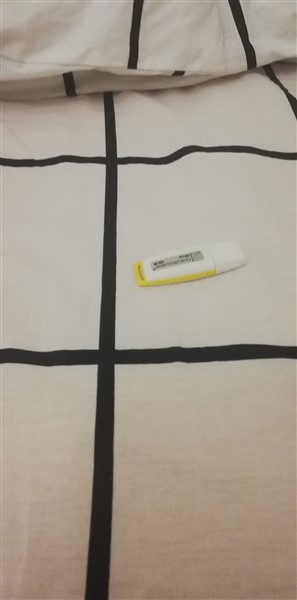flash disk: (132, 238, 250, 289)
